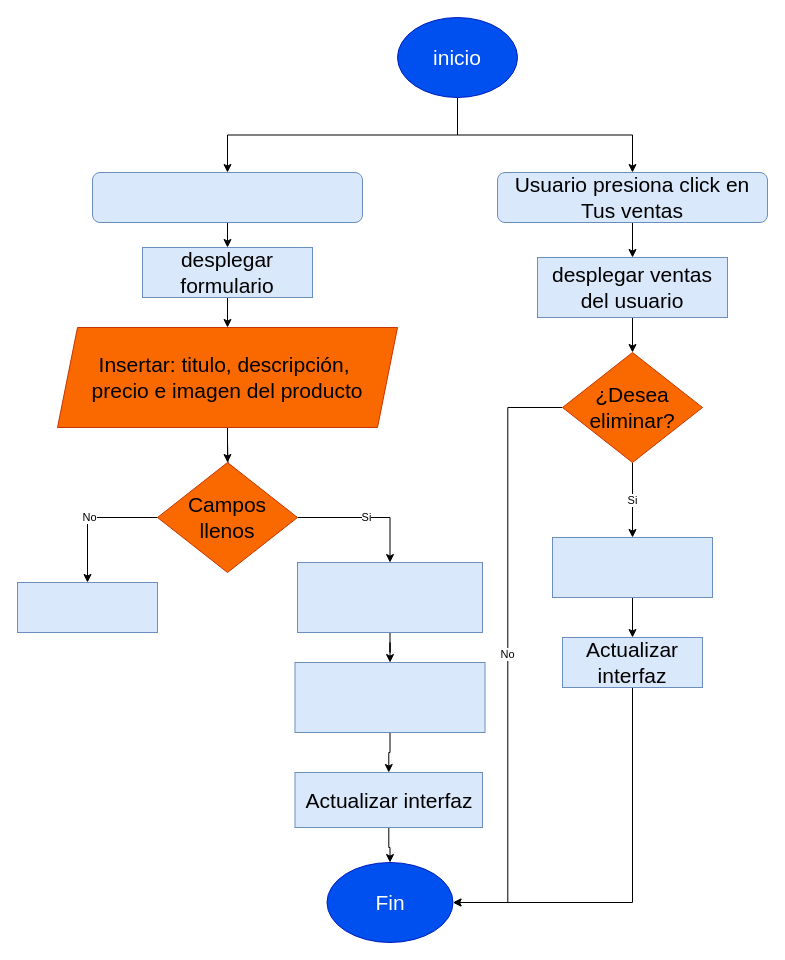
Some shapes in this 785 by 960 pixel diagram are drawn without their labels. The shapes that lost their labels are listed below. From the top down, each one's box as (x1, y1, x2, y2) in pixels, then its label:
(92, 172, 362, 222): Usuario presiona click en Agregar
(552, 536, 712, 598): Eliminar de la base de datos
(16, 582, 158, 632): Mostrar error
(296, 562, 482, 632): Guardar datos en la base de datos
(294, 662, 485, 732): Guardar producto en la base de datos
